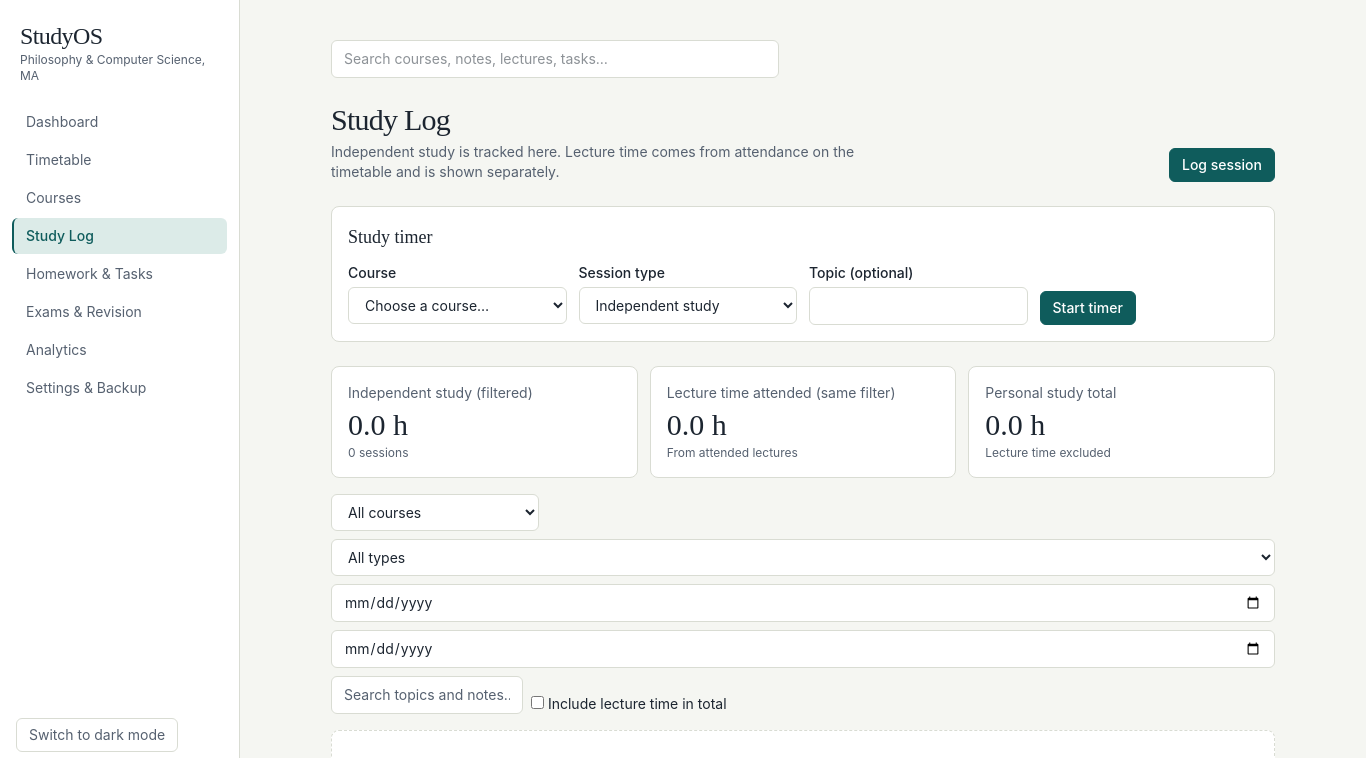
Test case: study log › warns before saving an identical duplicate session
The image size is (1366, 758).
Click the button "Log session" at (1222, 165), box [1169,148,1275,182]
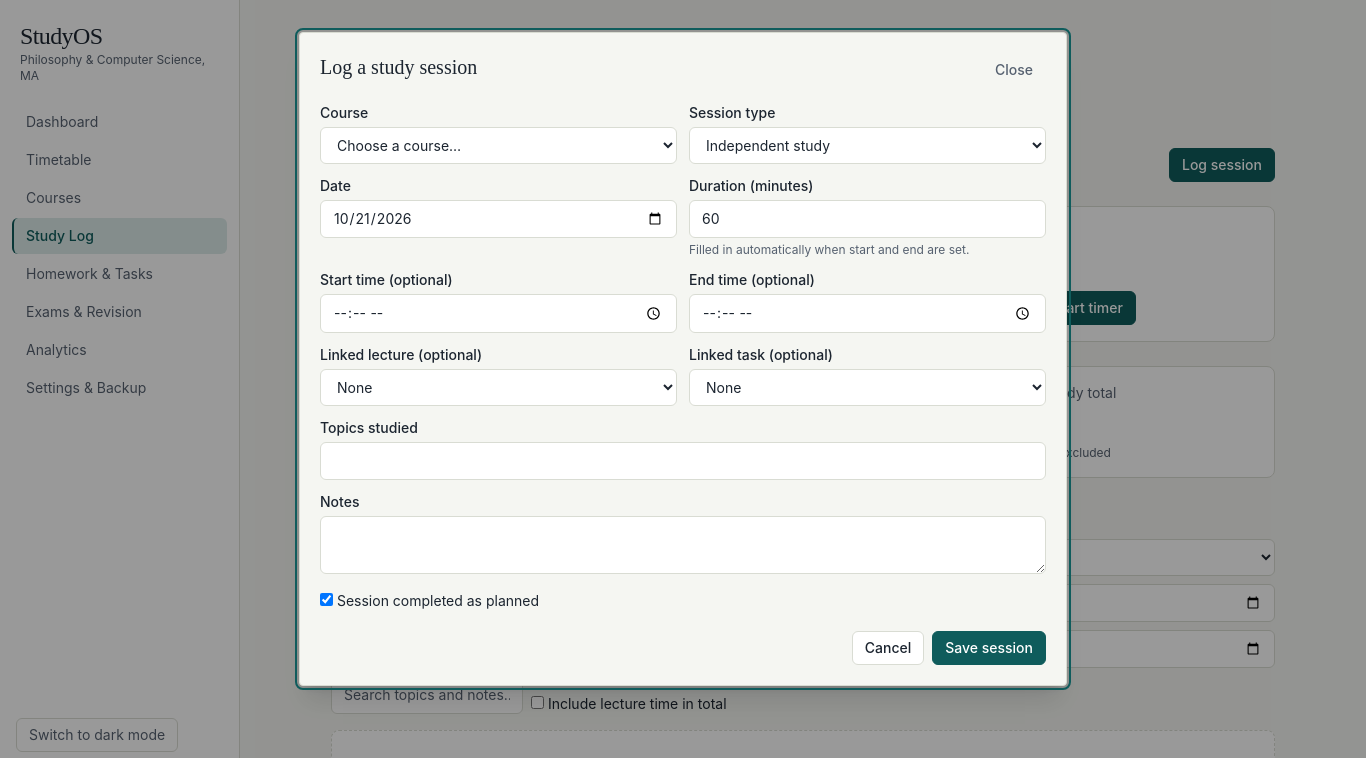
Select "Ethics (MA)" in the dropdown labelled "Course" at (498, 146), box [320,127,677,164]
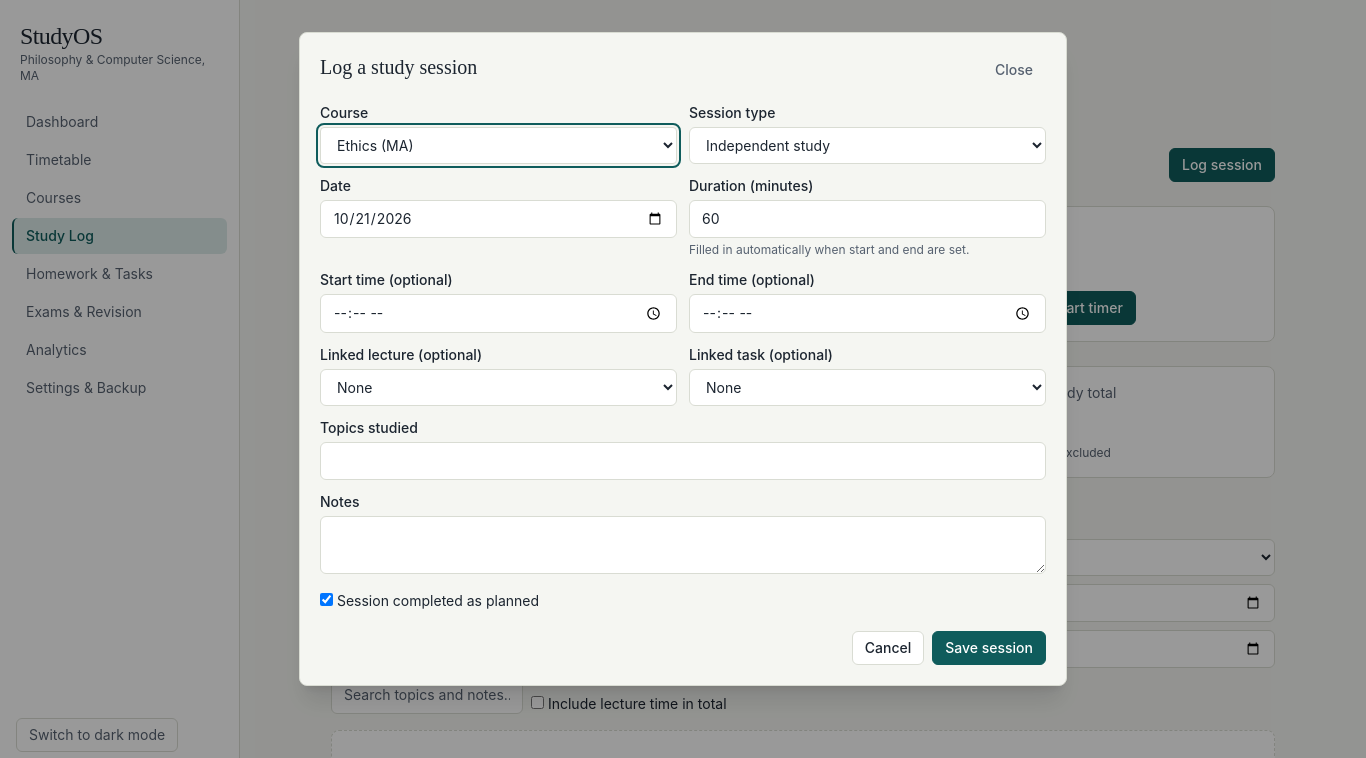
Click the button "Save session" at (989, 648), box [932,631,1046,665]
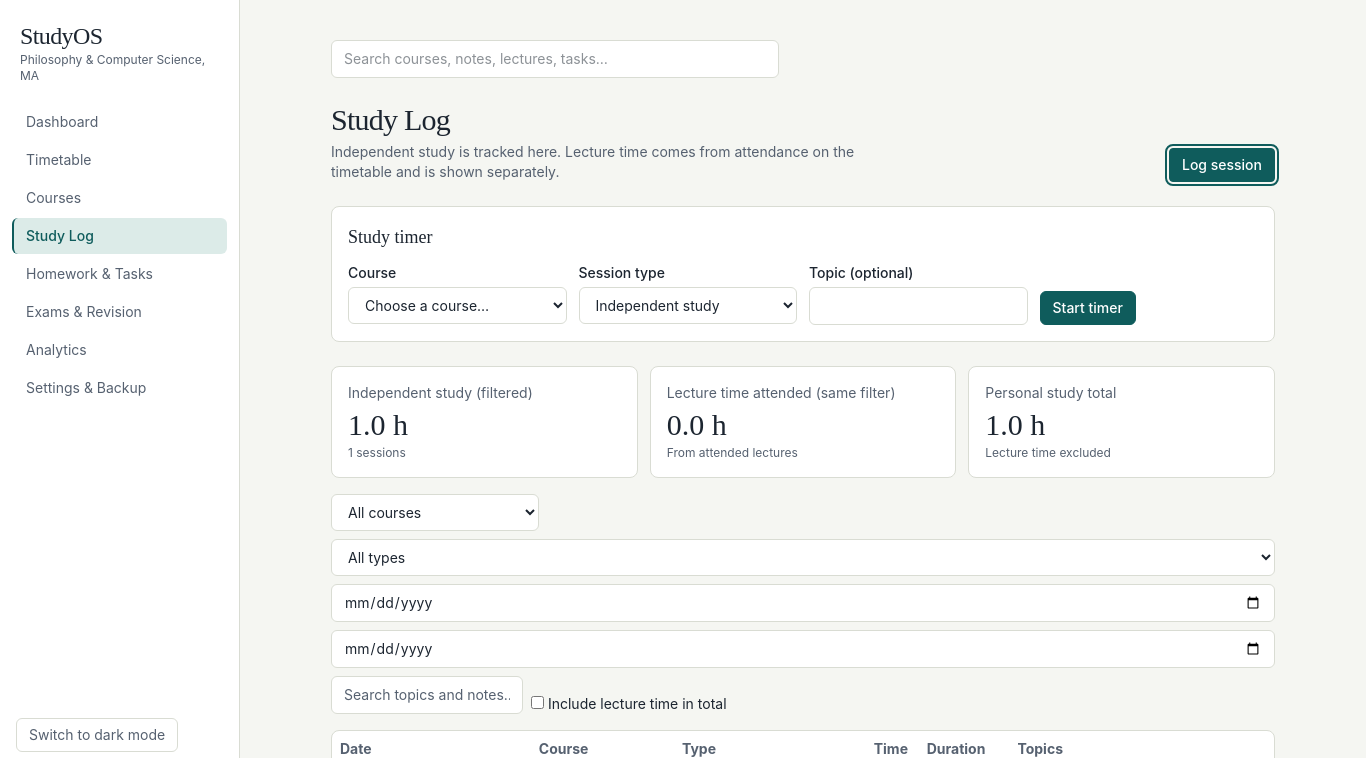
Result: the dialog is gone
Click the button "Log session" at (1222, 165), box [1169,148,1275,182]
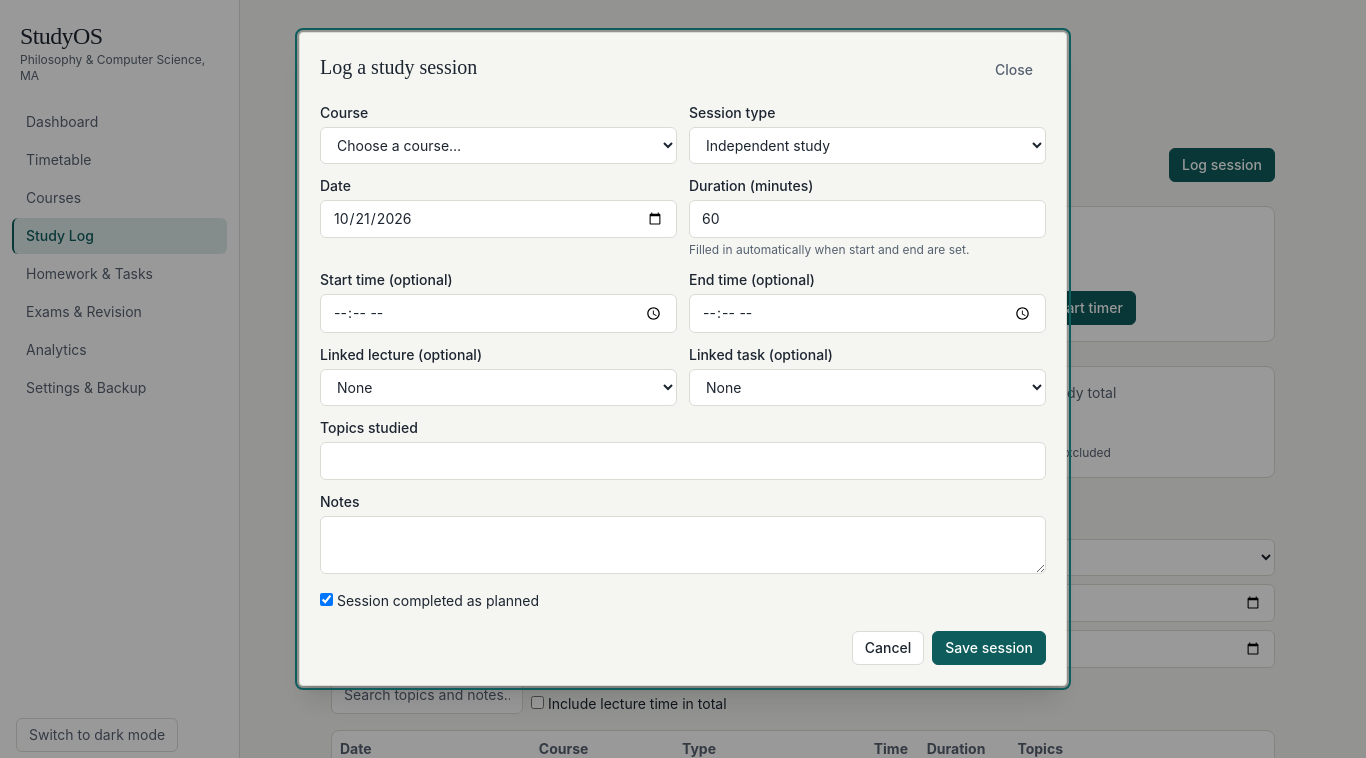
Select "Ethics (MA)" in the dropdown labelled "Course" at (498, 146), box [320,127,677,164]
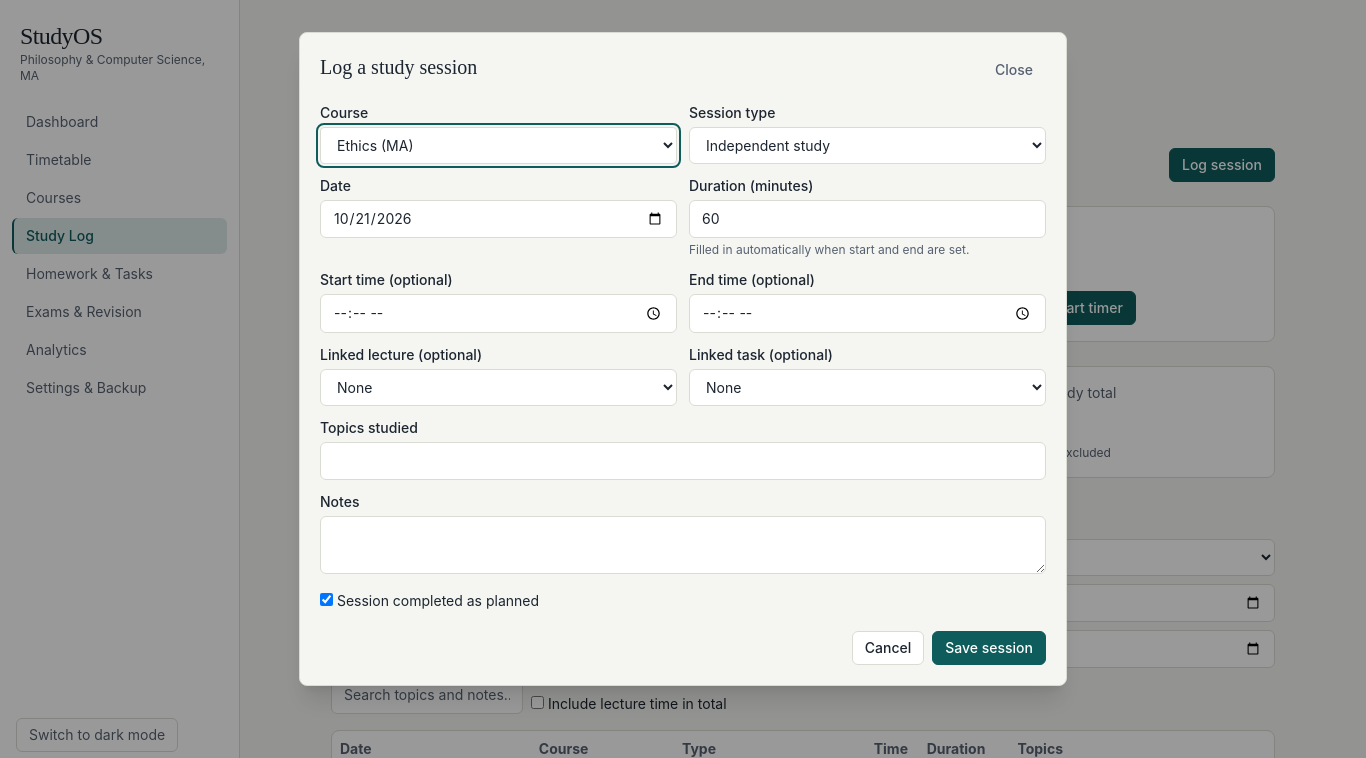
Click the button "Save session" at (989, 648), box [932,631,1046,665]
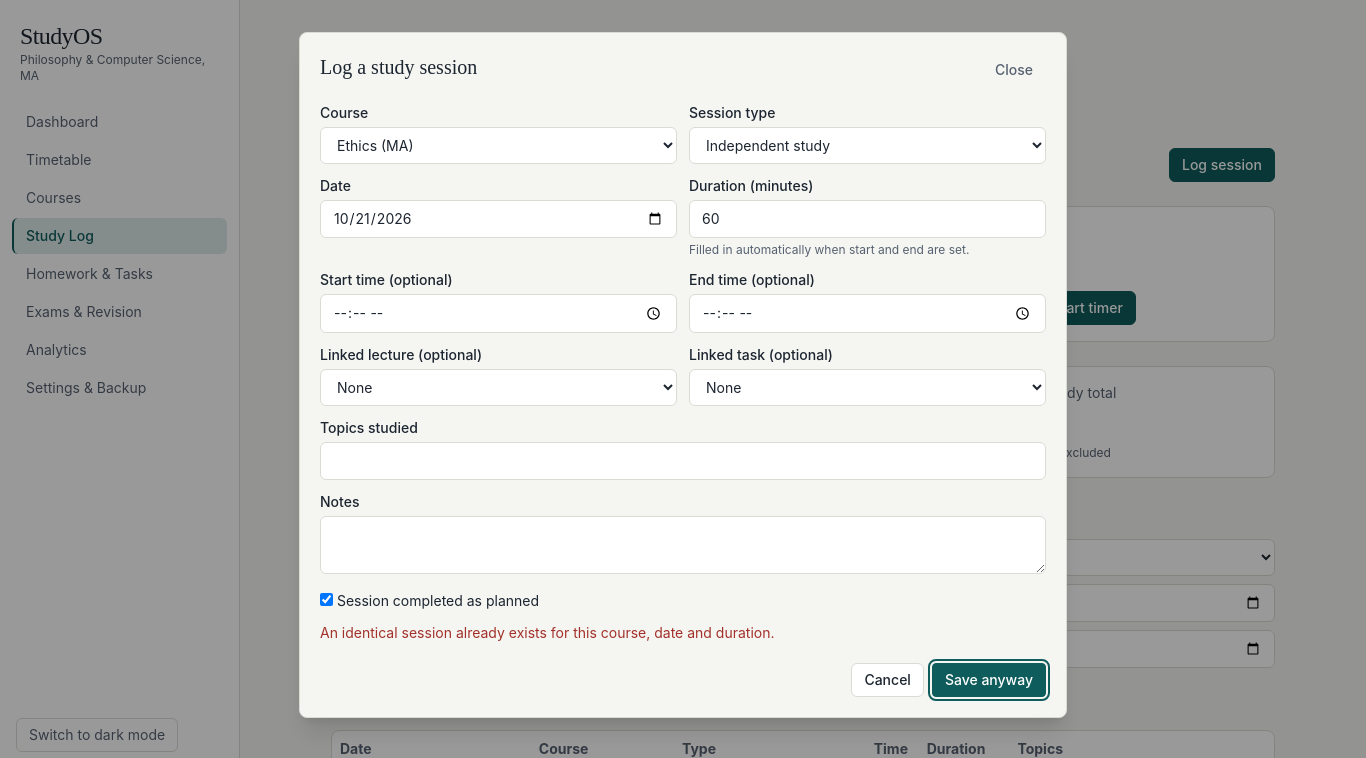
Result: the message shows "identical session" at [320,624,774,641]
Result: the button "Save anyway" is shown at [932,663,1046,697]
